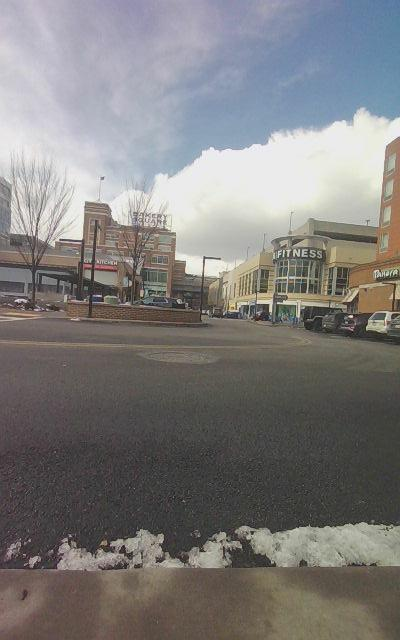curb: (0, 567, 399, 639)
road: (0, 317, 399, 569)
